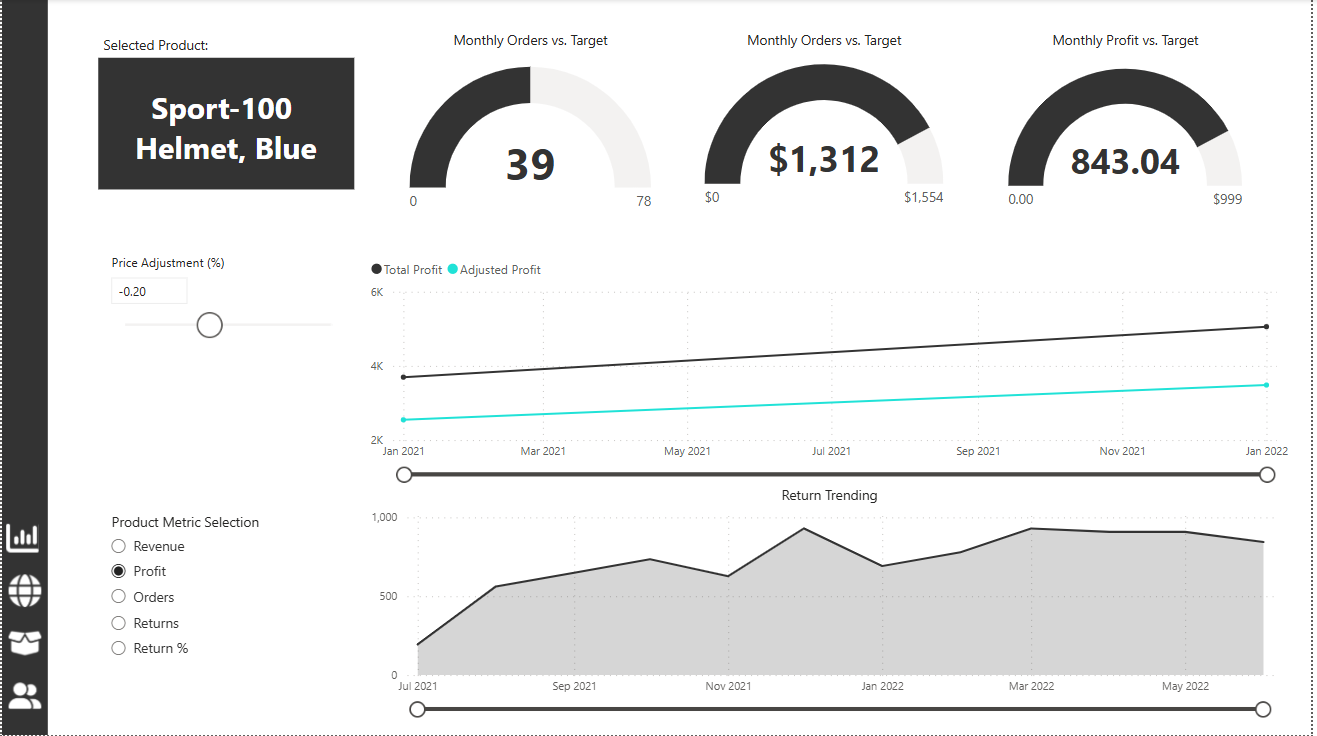

The page's visual inventory and layout, read from the dashboard file:
{"tool":"powerbi","page":{"name":"Product Detail","canvas":[1280,720],"ordinal":2},"visuals":[{"type":"shape","box":[0,0,45,720],"z":0},{"type":"actionButton","box":[2.5,516.7,45.6,37.8],"z":0,"group":"g1"},{"type":"gauge","title":"Monthly Orders vs. Target","fields":{"Y":["Measure Table.Total Orders"],"MaxValue":["Measure Table.Order Target"]},"box":[383.7,41.5,236.9,203.7],"z":1000},{"type":"actionButton","box":[3.3,563.4,45.6,37.8],"z":1000,"group":"g1"},{"type":"gauge","title":"Monthly Revenue vs. Target","fields":{"Y":["Measure Table.Total Revenue"],"MaxValue":["Measure Table.Revenue Target"]},"box":[683.5,41.5,236.9,203.7],"z":2000},{"type":"actionButton","box":[3.3,611.1,45.6,37.8],"z":2000,"group":"g1"},{"type":"gauge","title":"Monthly Profit vs. Target","fields":{"Y":["Measure Table.Total Profit"],"MaxValue":["Measure Table.Profit Target"]},"box":[983.4,41.8,236.2,203.5],"z":3000},{"type":"actionButton","box":[3.3,657.8,45.6,37.8],"z":3000,"group":"g1"},{"type":"lineChart","title":"Profit Trending","fields":{"Category":["Calendar Lookup.Date Hierarchy.Year","Calendar Lookup.Date Hierarchy.Start of Month","Calendar Lookup.Date Hierarchy.Start of Week","Calendar Lookup.Date Hierarchy.Date"],"Y":["Measure Table.Total Profit","Measure Table.Adjusted Profit"]},"box":[290.5,237.4,952.8,221.5],"z":4000},{"type":"areaChart","title":"Return Trending","fields":{"Y":["Measure Table.Total Profit"],"Category":["Calendar Lookup.Date Hierarchy.Year","Calendar Lookup.Date Hierarchy.Start of Month","Calendar Lookup.Date Hierarchy.Start of Week","Calendar Lookup.Date Hierarchy.Date"]},"box":[290.5,471.3,708.7,221.5],"z":5000},{"type":"card","fields":{"Values":["Min(Product Lookup.ProductName)"]},"box":[83.6,61,235.1,134.5],"z":6000},{"type":"textbox","box":[83.6,32.8,136.8,36.2],"z":7000},{"type":"group","id":"g1","title":"Navigation Buttons","box":[2.5,516.7,46.4,178.9],"z":8000},{"type":"slicer","fields":{"Values":["Price Adjustment (%).Price Adjustment (%)"]},"box":[83.6,245.3,193.3,123.2],"z":9000},{"type":"slicer","fields":{"Values":["Product Metric Selection.Product Metric Selection"]},"box":[83.6,477,193.3,180.8],"z":10000},{"type":"textbox","title":"Report Summary","box":[999.2,478.1,253.2,208],"z":11000}]}

Visuals, with their boxes on the page's 1280x720 design canvas (x1, y1, x2, y2). These are canvas units, not pixel positions in the 1317x736 screenshot, which may show the page scaled, cropped or inside an application window:
shape: (0, 0, 45, 720)
actionButton: (2, 517, 48, 554)
"Monthly Orders vs. Target" gauge: (384, 42, 621, 245)
actionButton: (3, 563, 49, 601)
"Monthly Revenue vs. Target" gauge: (684, 42, 920, 245)
actionButton: (3, 611, 49, 649)
"Monthly Profit vs. Target" gauge: (983, 42, 1220, 245)
actionButton: (3, 658, 49, 696)
"Profit Trending" lineChart: (290, 237, 1243, 459)
"Return Trending" areaChart: (290, 471, 999, 693)
card - Min(Product Lookup.ProductName): (84, 61, 319, 196)
textbox: (84, 33, 220, 69)
"Navigation Buttons" group: (2, 517, 49, 696)
slicer - Price Adjustment (%).Price Adjustment (%): (84, 245, 277, 368)
slicer - Product Metric Selection.Product Metric Selection: (84, 477, 277, 658)
"Report Summary" textbox: (999, 478, 1252, 686)
